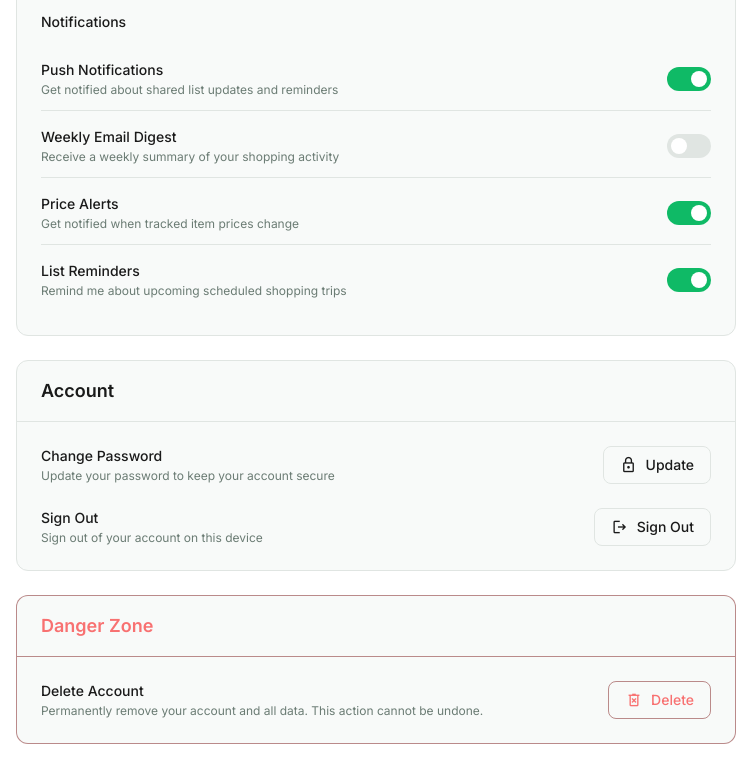
SettingsPage › shows delete confirmation flow
The image size is (753, 761).
(page scrolled)
Click the button "Delete": (660, 700) [608,681,711,719]
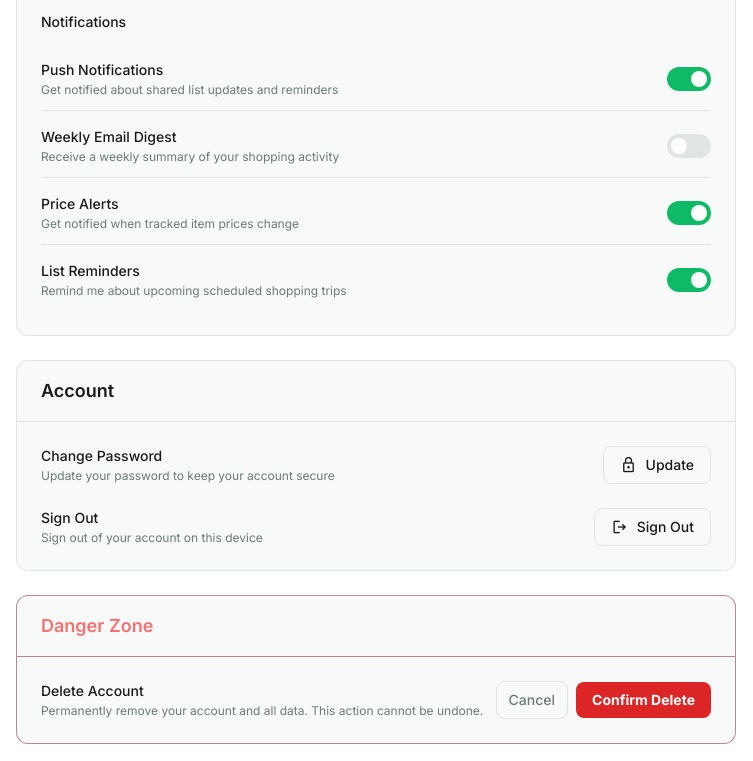
Now the button "Confirm Delete" is shown, box [576,682,711,718]
Now the button "Cancel" is shown, box [496,681,568,719]
